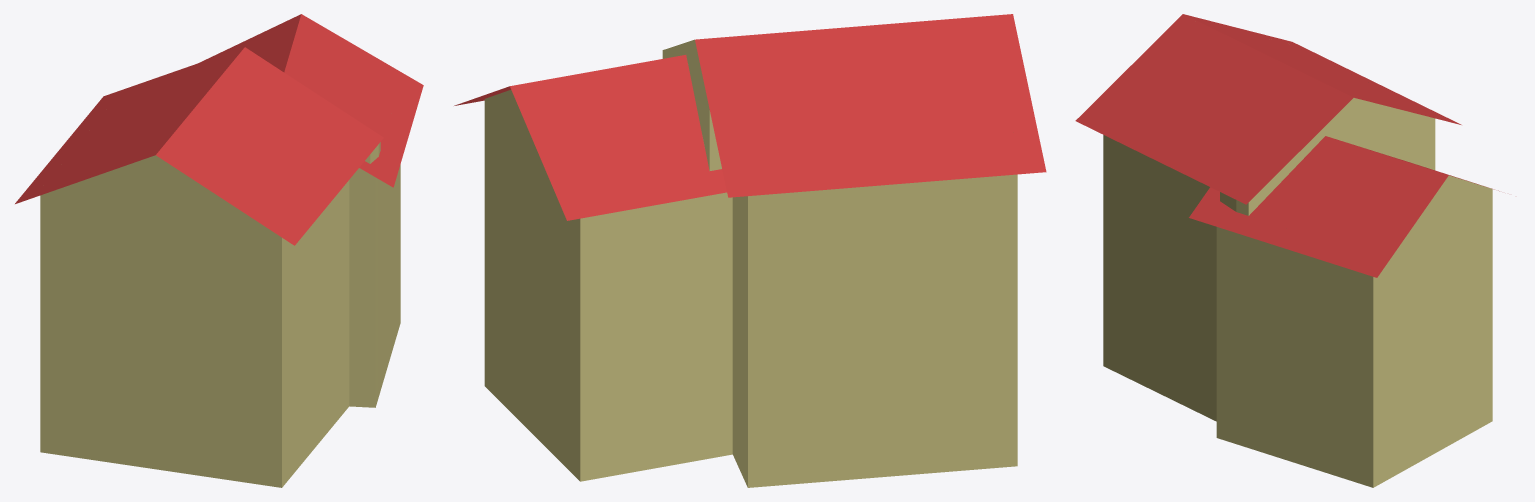
3 renders of one model, left to right at view 1: azimuth 30°, elevation 25°; view 2: azimuth 150°, elevation 25°; view 3: azimuth 270°, elevation 25°, orthographic. The views are drawn at different scales.
Parts seen in each view (by area): view 1: group_5, group_3, group_7, group_9, group_4, group_8; view 2: group_5, group_9, group_3, group_7, group_4, group_8; view 3: group_9, group_5, group_3, group_7, group_4, group_8.
Part boxes in pixels (x1,y1,x2,y2): group_5: (40, 142, 380, 487); group_3: (41, 47, 383, 245); group_7: (199, 14, 423, 187); group_9: (370, 164, 400, 407); group_4: (15, 96, 383, 243); group_8: (204, 15, 421, 186); group_5: (662, 39, 1017, 487); group_9: (484, 90, 709, 481); group_3: (695, 14, 1017, 197); group_7: (454, 55, 726, 220); group_4: (728, 14, 1046, 197); group_8: (466, 83, 576, 218); group_9: (1216, 175, 1492, 487); group_5: (1103, 98, 1435, 447); group_3: (1075, 14, 1460, 204); group_7: (1189, 136, 1499, 277); group_4: (1077, 14, 1461, 203); group_8: (1195, 171, 1446, 274).
Size of the model in its own units: 19.03 by 16.77 by 12.97.
